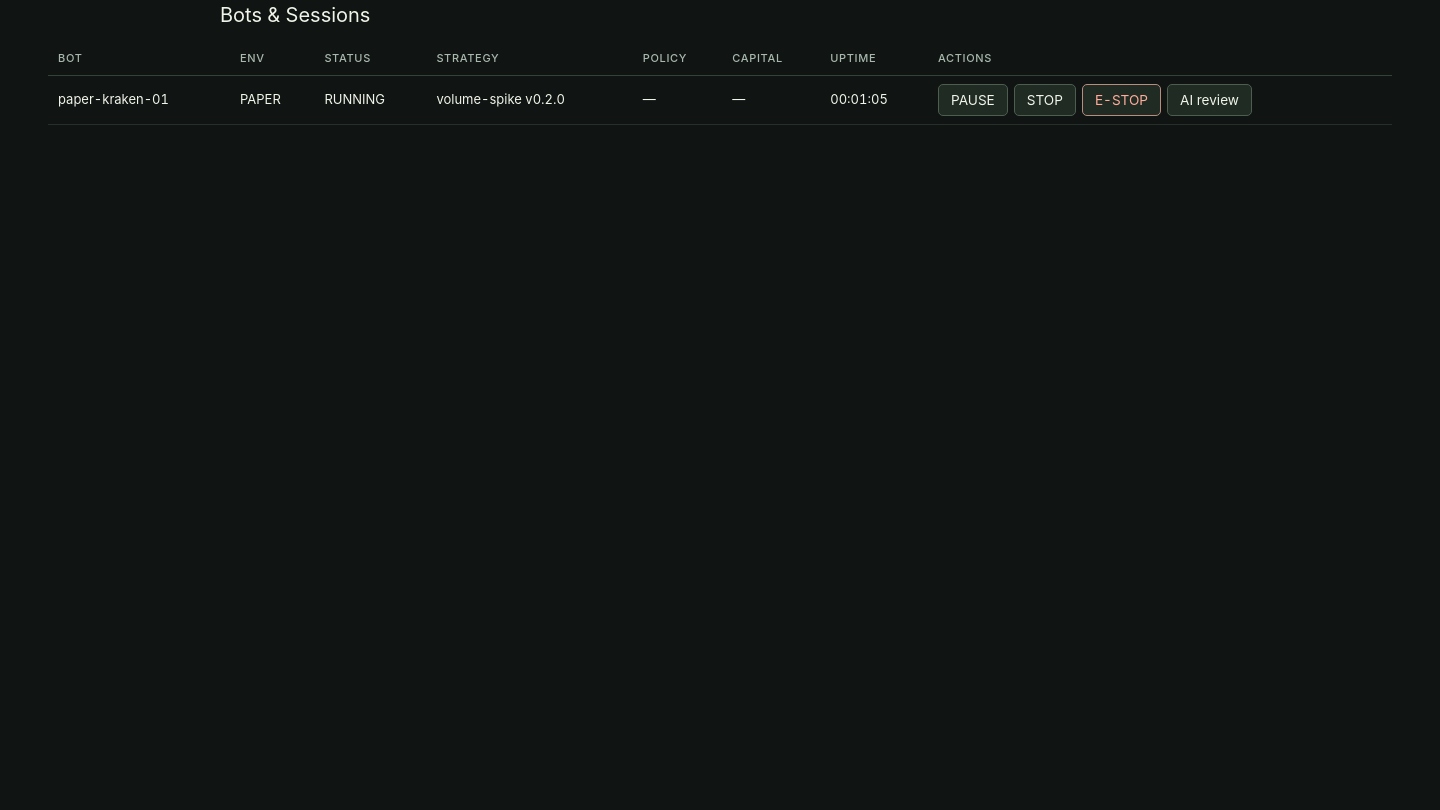
Test: BotsPage › confirmed E-STOP is sent and its outcome shown
Click the button "E-STOP". click: click(1121, 100)
box: [1082,84,1161,116]
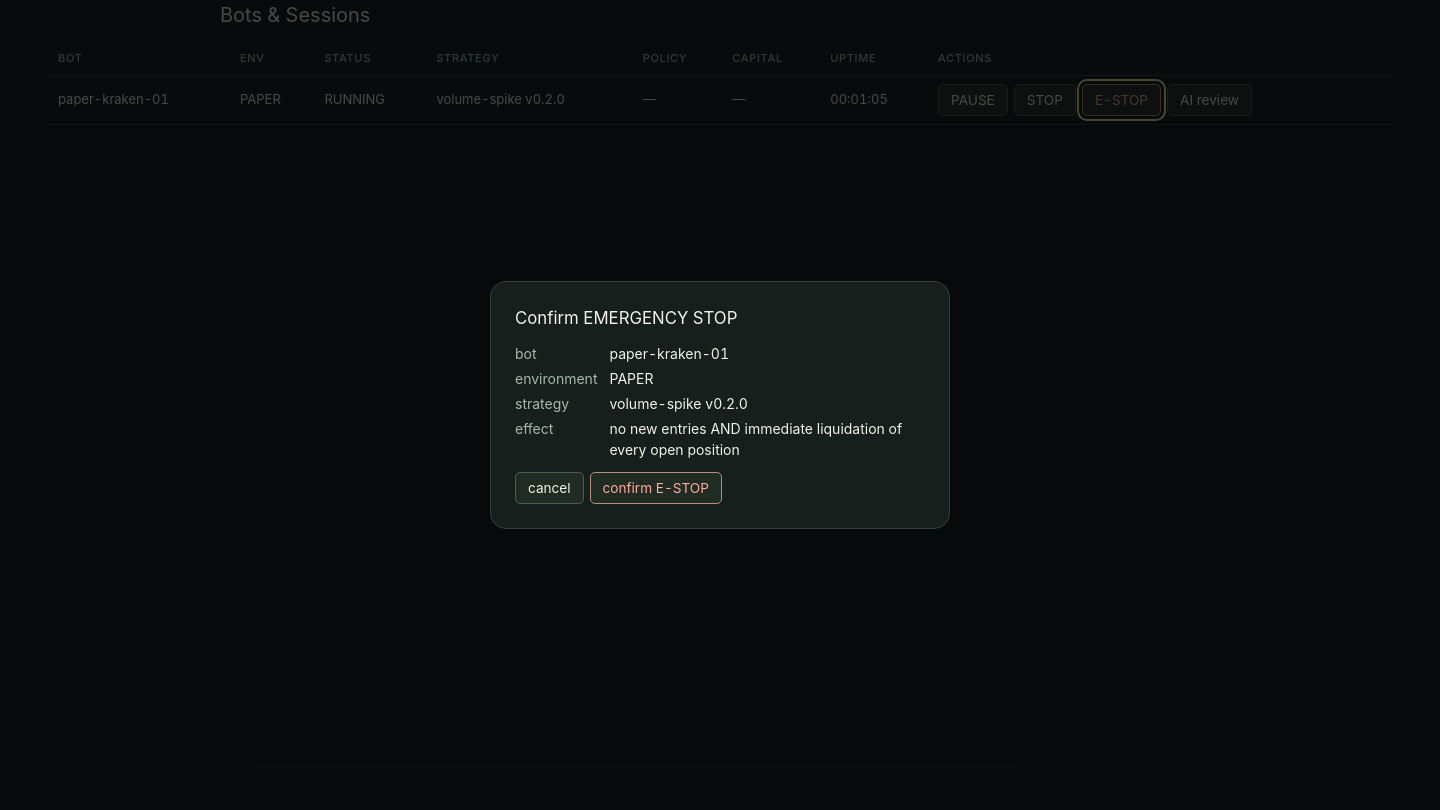
Click the button "confirm E-STOP". click: click(656, 488)
box: [590,472,722,504]
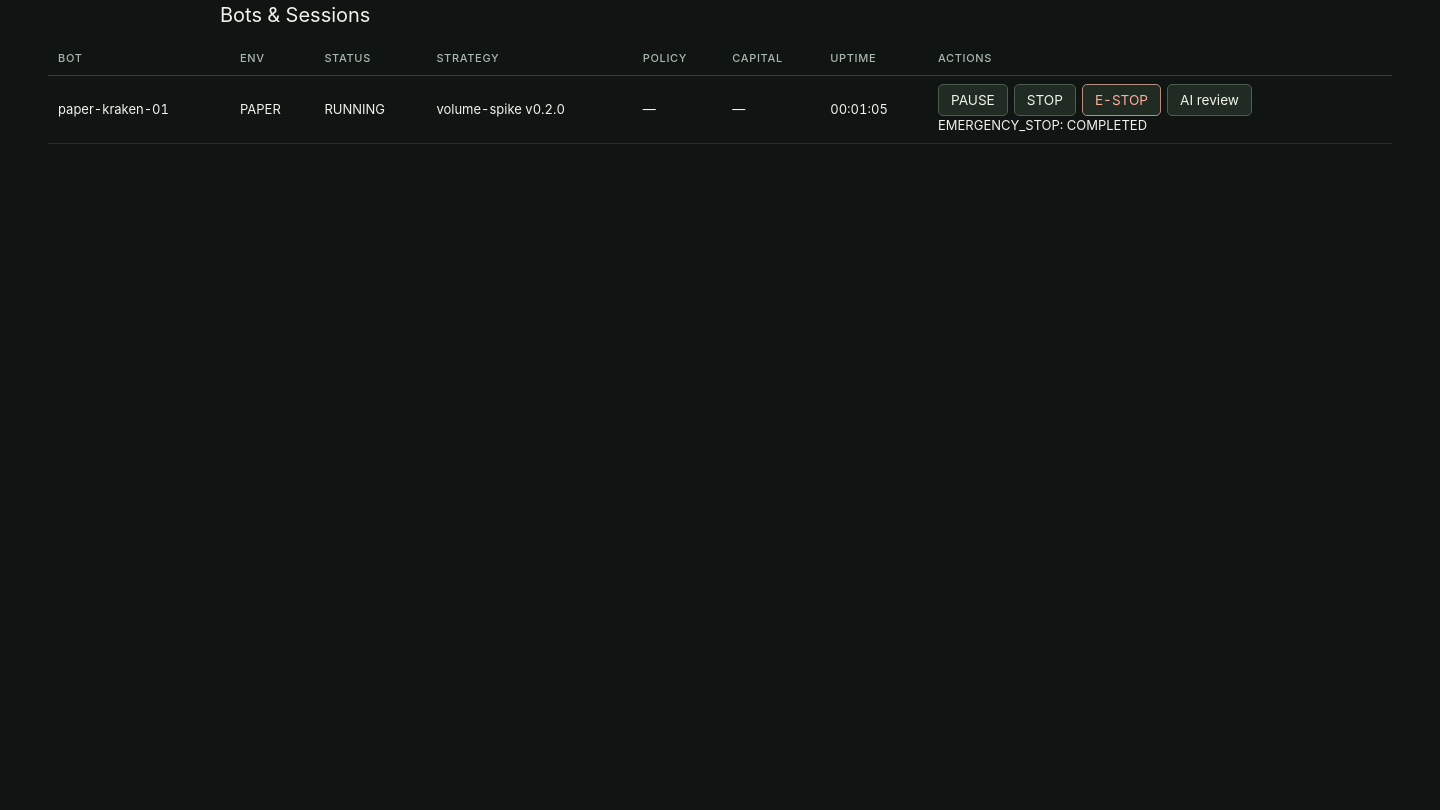
Result: the message reads "EMERGENCY_STOP: COMPLETED" at [938,117,1147,133]
